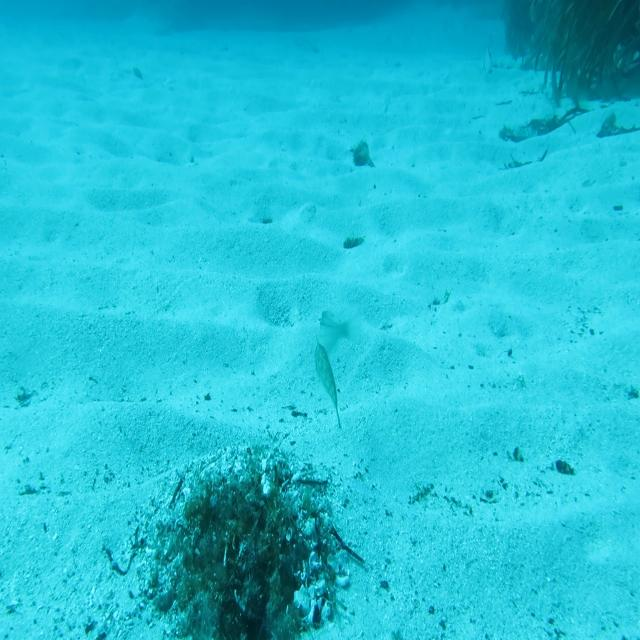MAF: (311, 334, 344, 433)
core_nest: (210, 498, 262, 532)
female: (314, 308, 364, 358)
nest: (124, 423, 360, 640)
vegetation: (341, 234, 367, 252)
